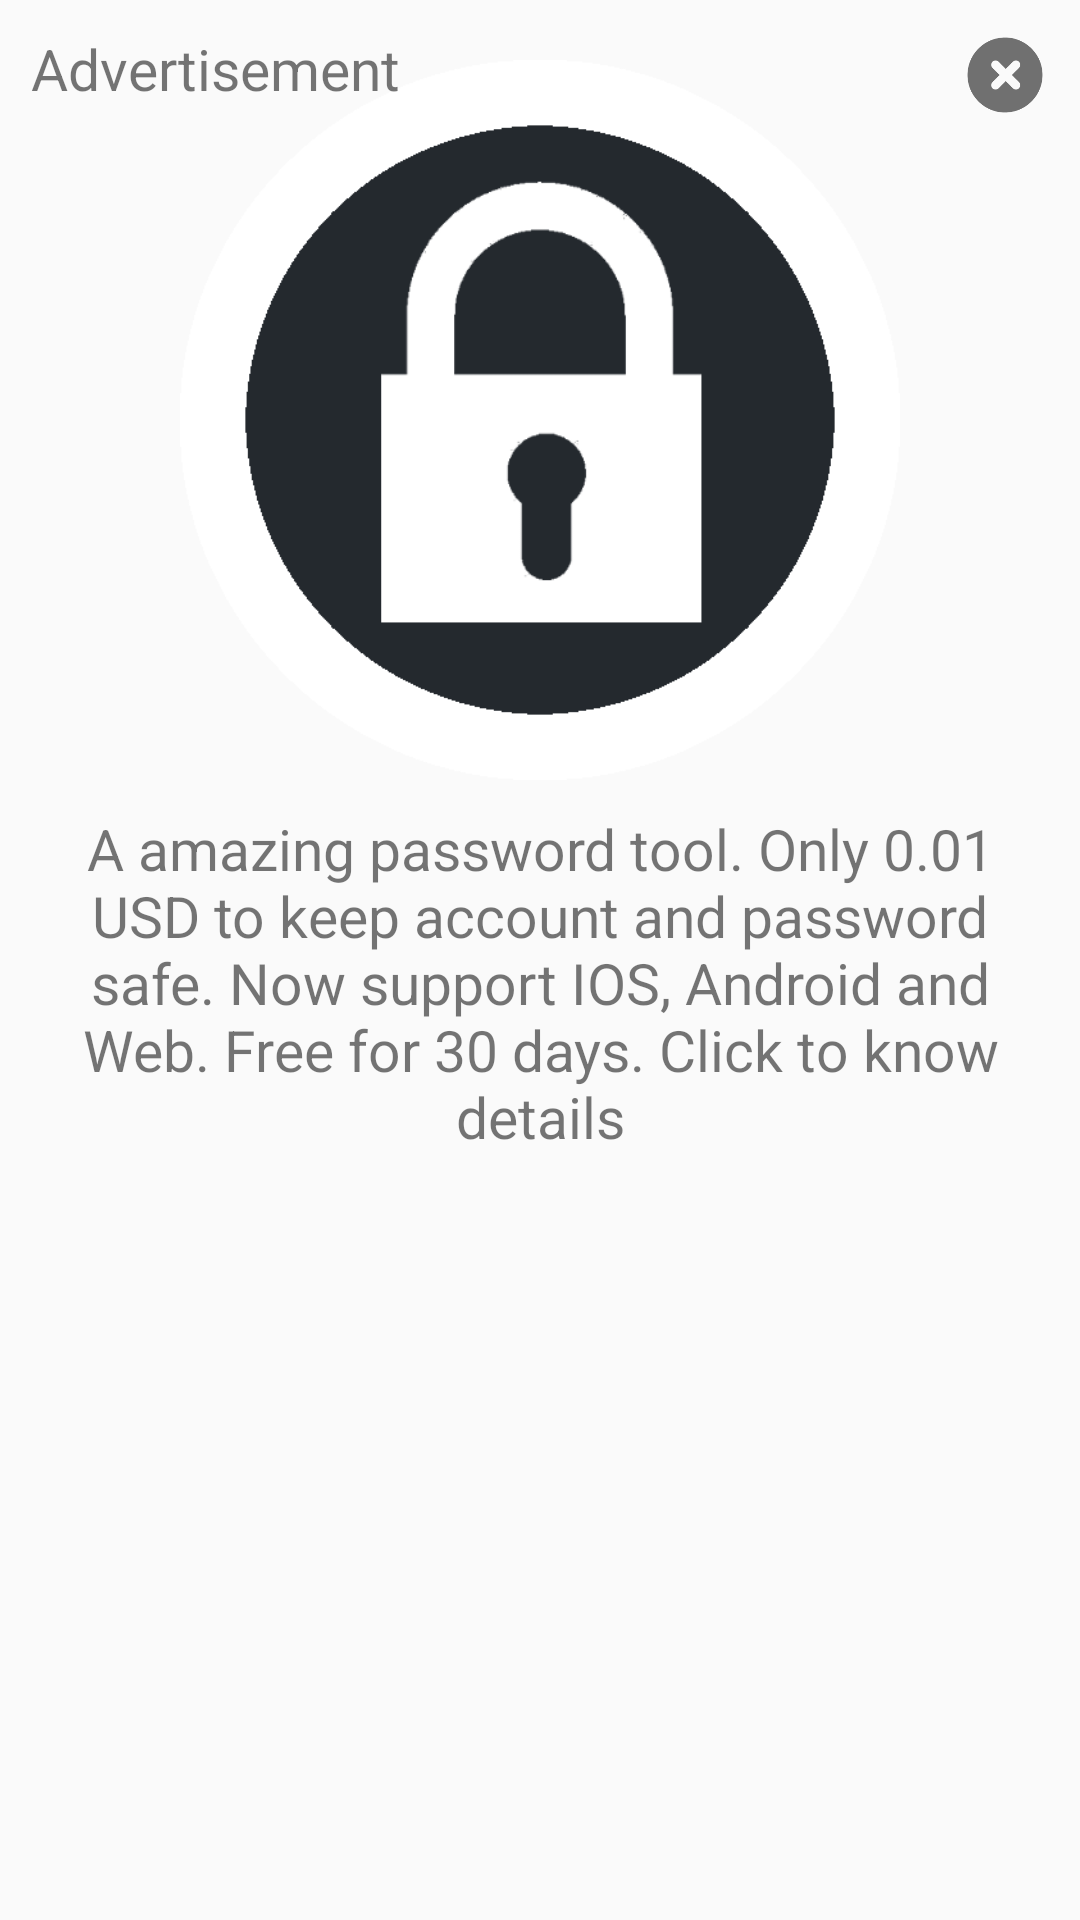

Icon bounding boxes for this 1080px×1920px phone screenshot, format (x1, y1, x2, y2):
close: (967, 37, 1043, 113)
